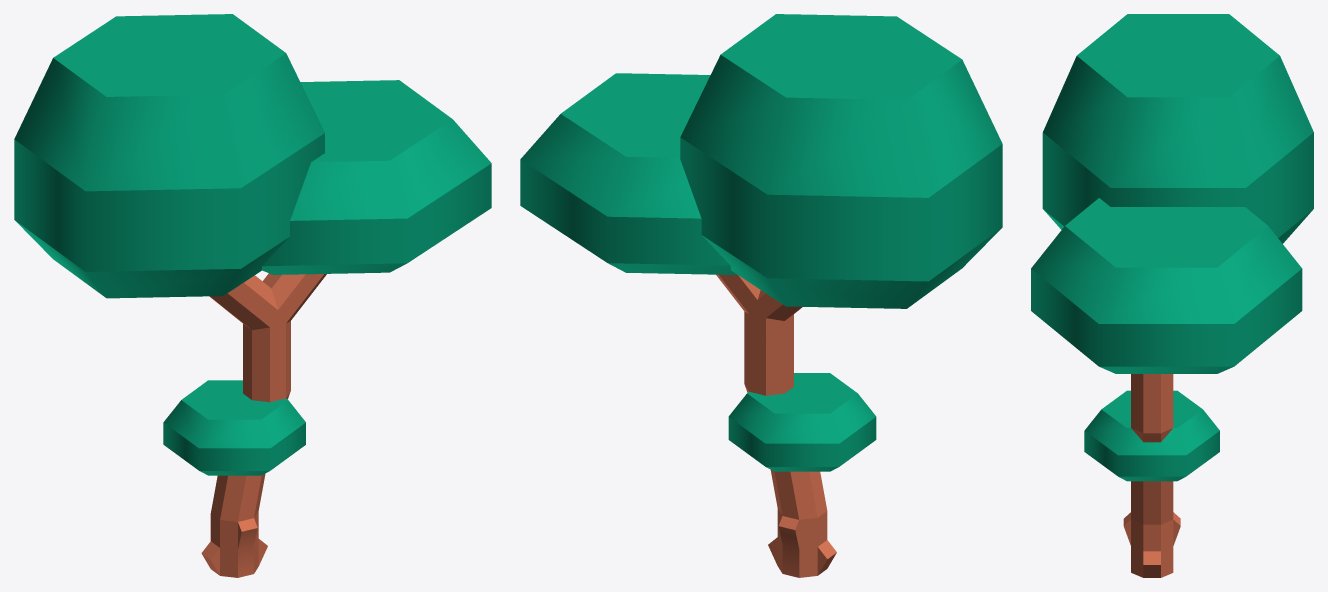
File: Tree1.fbx
The picture shows the model from 3 angles, left to right: view 1: azimuth 30°, elevation 25°; view 2: azimuth 150°, elevation 25°; view 3: azimuth 270°, elevation 25°; orthographic projection. The views are drawn at different scales.
Parts seen in each view (by area): view 1: mergedBlocks; view 2: mergedBlocks; view 3: mergedBlocks.
Part boxes in pixels (box(x1,y1,x2,y2)): mergedBlocks: box(14, 14, 491, 577); mergedBlocks: box(520, 14, 1002, 577); mergedBlocks: box(1031, 14, 1313, 577).
Bounding box in the file's own units: 37.4 × 46 × 24.09.
